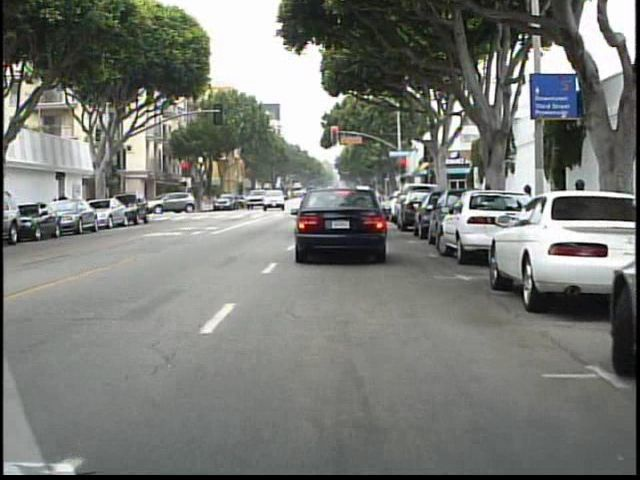person: (54, 187, 72, 225), (156, 190, 171, 218)
